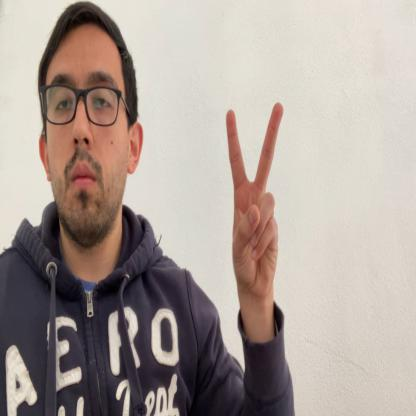V: (225, 104, 285, 298)
